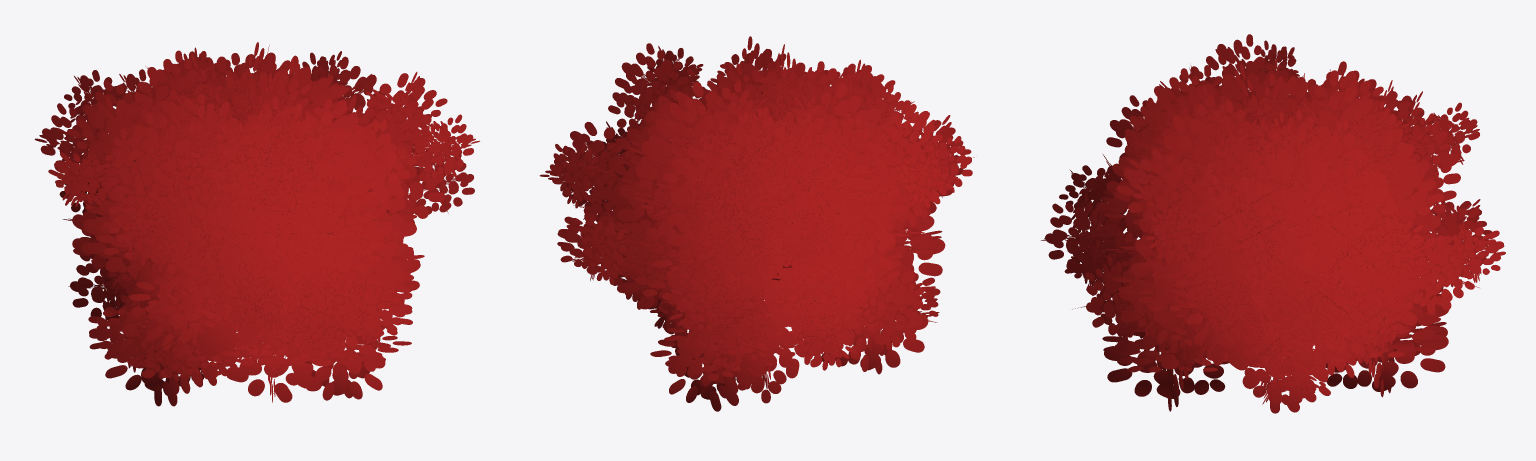
3 renders of one model, left to right at view 1: azimuth 30°, elevation 25°; view 2: azimuth 150°, elevation 25°; view 3: azimuth 270°, elevation 25°, orthographic. The views are drawn at different scales.
Visible parts, largest first — view 1: Bush_Common; view 2: Bush_Common; view 3: Bush_Common.
Boxes of the visible parts, x1,y1,x2,y2 form: Bush_Common: (34, 42, 479, 406); Bush_Common: (539, 36, 974, 411); Bush_Common: (1041, 34, 1505, 413).
Size of the model in its own units: 1.91 by 1.58 by 1.97.
1 material, 1 textured.
